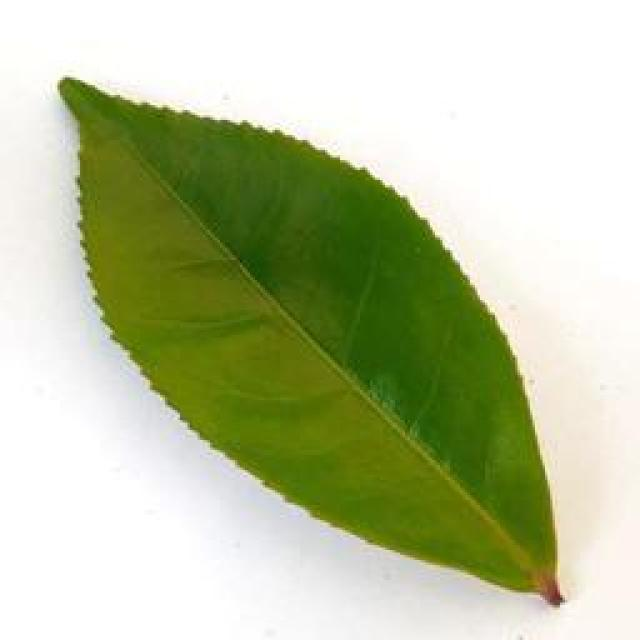Healthy: (37, 62, 589, 623)
